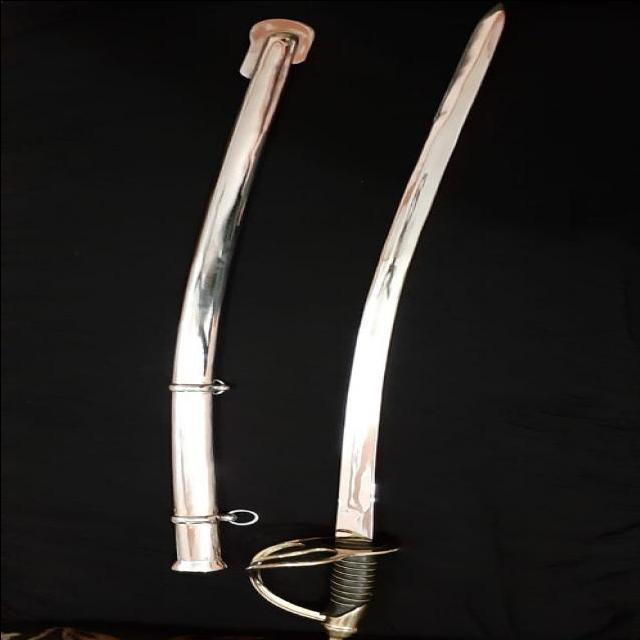cutlass: (245, 1, 571, 640)
scabbard: (151, 12, 277, 577)
